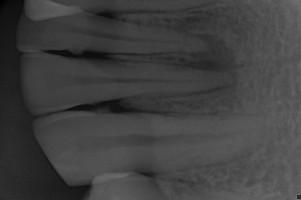Furcation Involvement: (187, 35, 238, 84)
